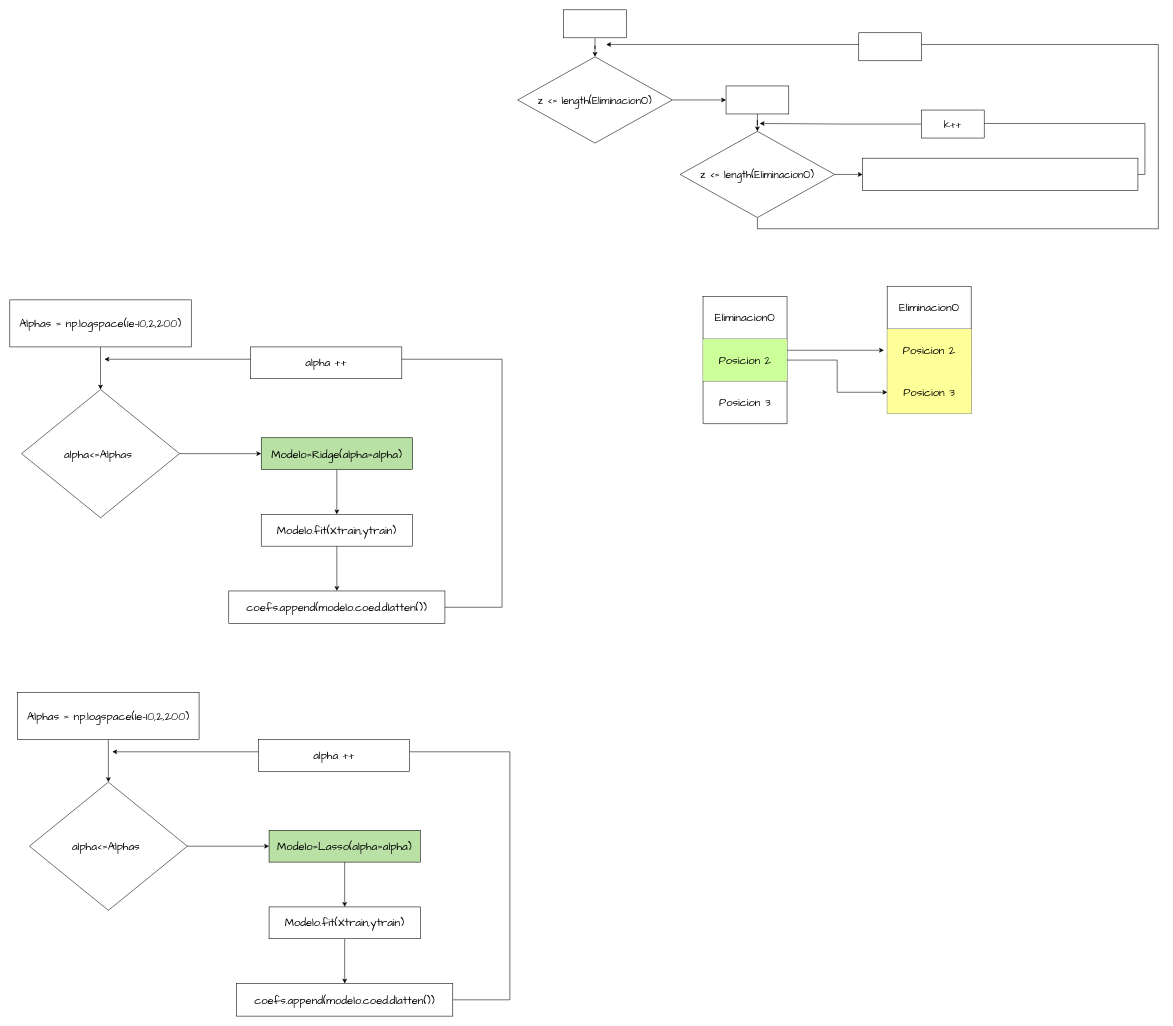
This 1173x1026 diagram has some shape labels left out. The box of each missing label's shape, as (x1, y1, x2, y2) in pixels:
k=1: (725, 85, 789, 114)
ReemplaYa(z,k)= imag(Y(EliminacionO(z),EliminacionO(k)))): (862, 158, 1138, 191)
z++: (858, 32, 921, 61)
z=1: (563, 9, 626, 38)
